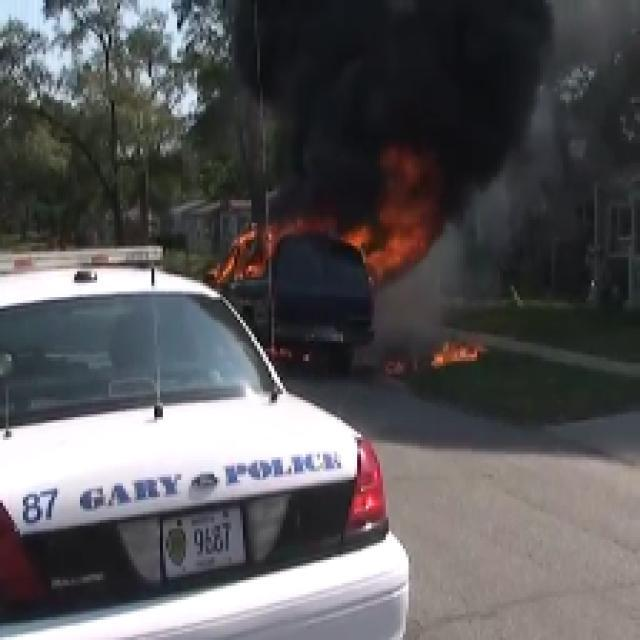Fire: (350, 222, 414, 265)
Smoke: (264, 13, 506, 166)
